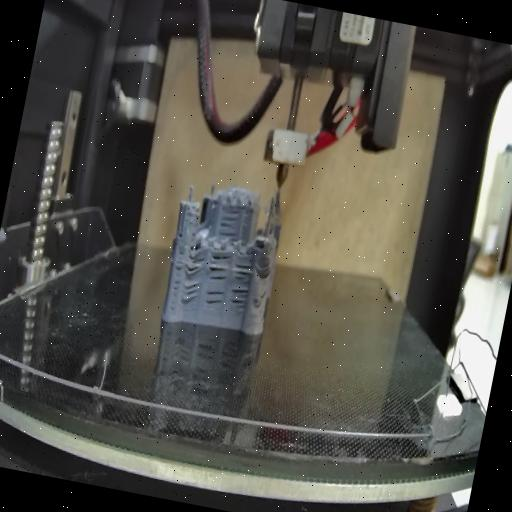cracks: (226, 257, 256, 314), (166, 252, 186, 320), (216, 202, 244, 244), (206, 247, 233, 281), (202, 284, 228, 311), (184, 250, 206, 278), (179, 279, 201, 303), (258, 258, 276, 282), (256, 288, 270, 306), (176, 225, 184, 240)
